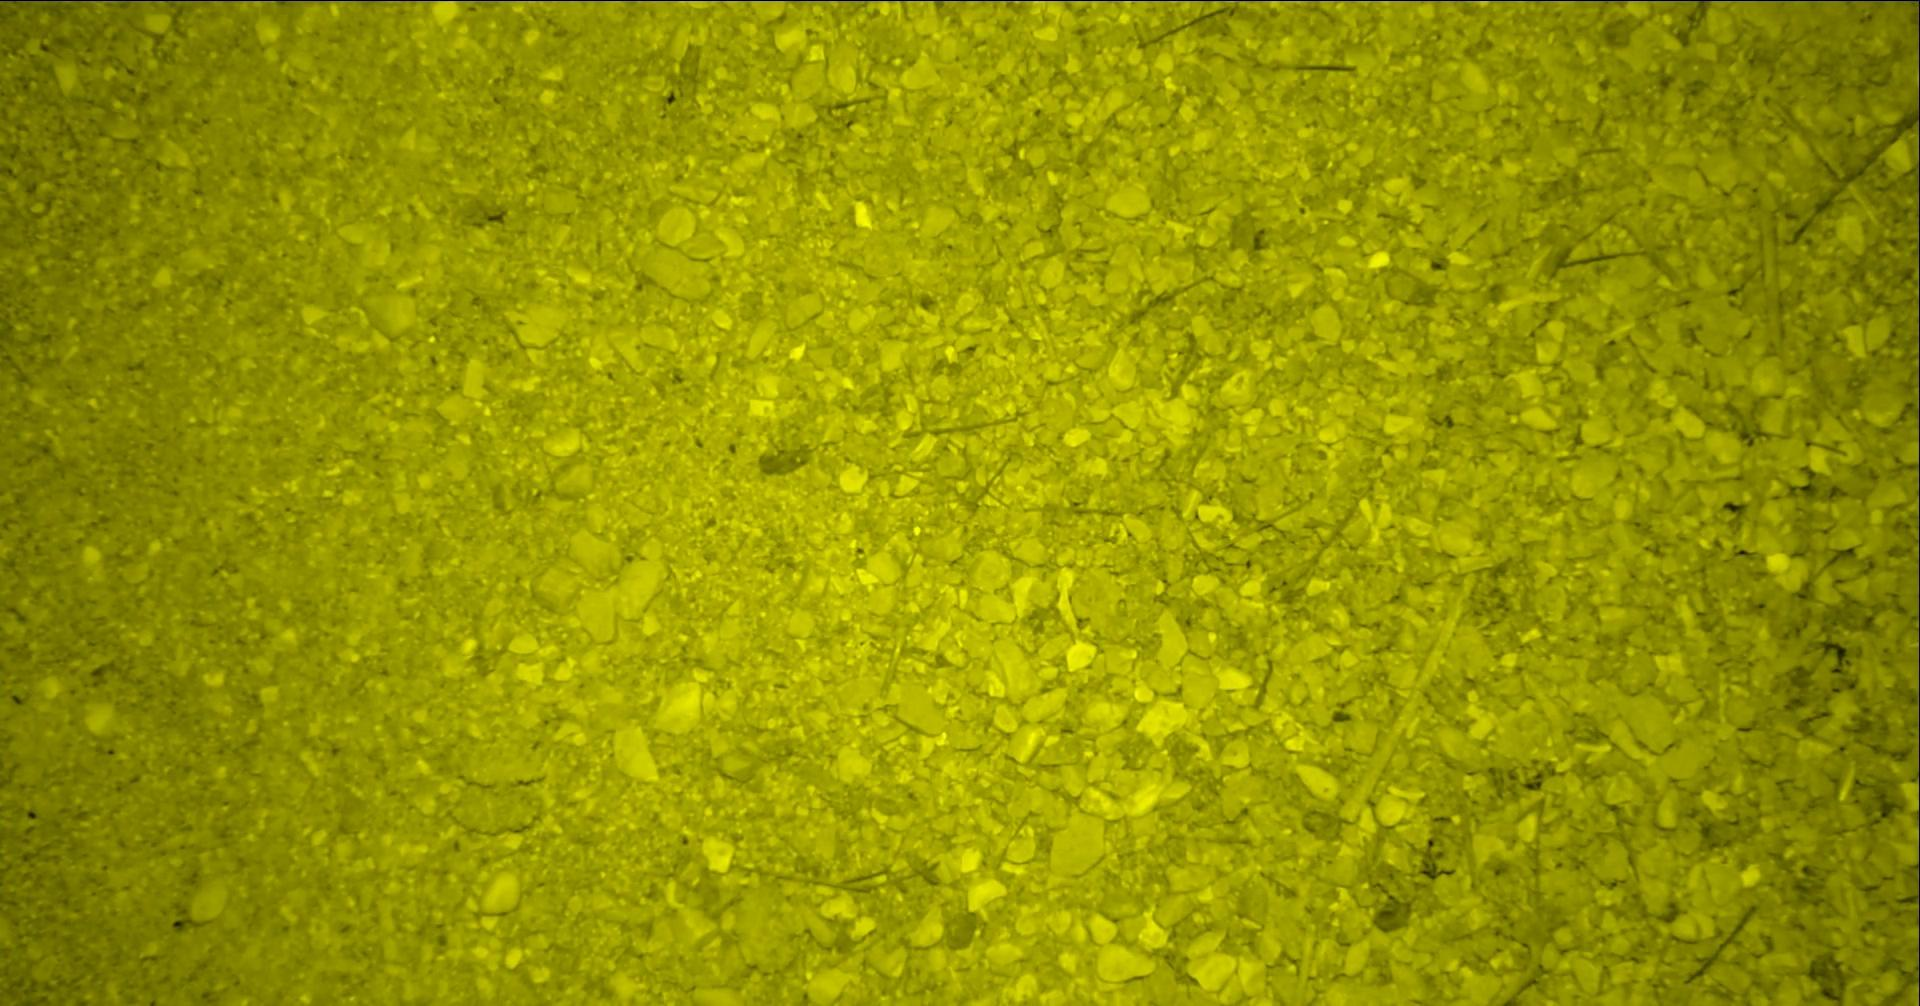ant: (1897, 0, 1920, 30)
